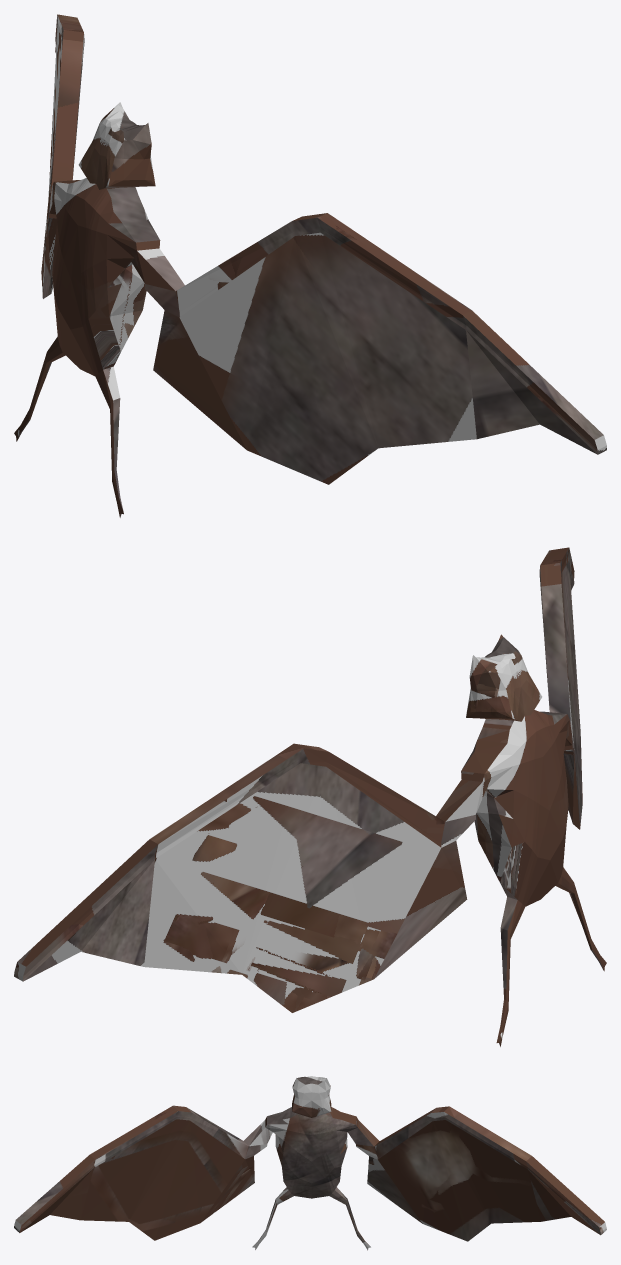
Rendered from Enemigo126.obj.
3 views of the same model, one above another, from view 1: azimuth 30°, elevation 25°; view 2: azimuth 150°, elevation 25°; view 3: azimuth 270°, elevation 25° (orthographic). The views are drawn at different scales.
Visible parts, largest first — view 1: Plano; view 2: Plano; view 3: Plano.
Part boxes in pixels (x1,y1,x2,y2): Plano: [14, 14, 606, 517]; Plano: [14, 547, 606, 1046]; Plano: [14, 1076, 606, 1250].
Size of the model in its own units: 0.6104 by 0.7456 by 2.11.
1 material, 1 textured.
